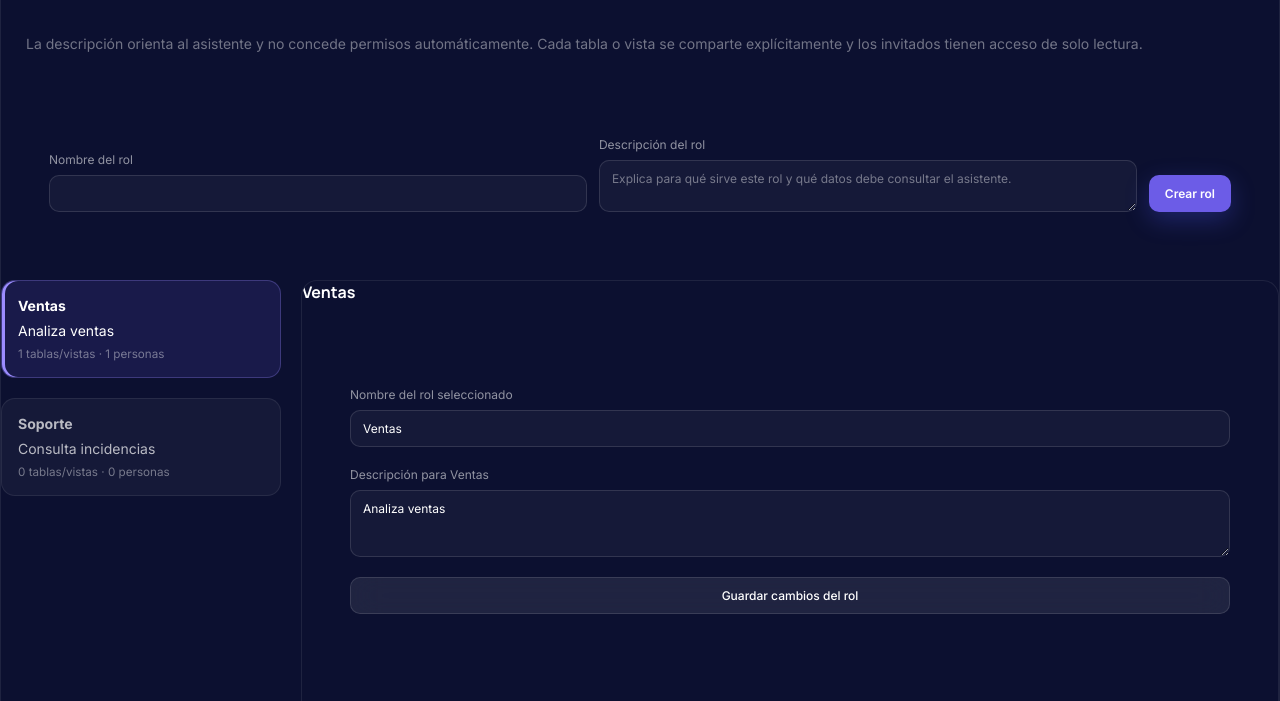
Test: edita nombre y descripción conservando permisos y personas del rol
Replace the text in the field labelled "Nombre del rol seleccionado" with " Ventas regionales " at (790, 428), box [350,410,1230,447]
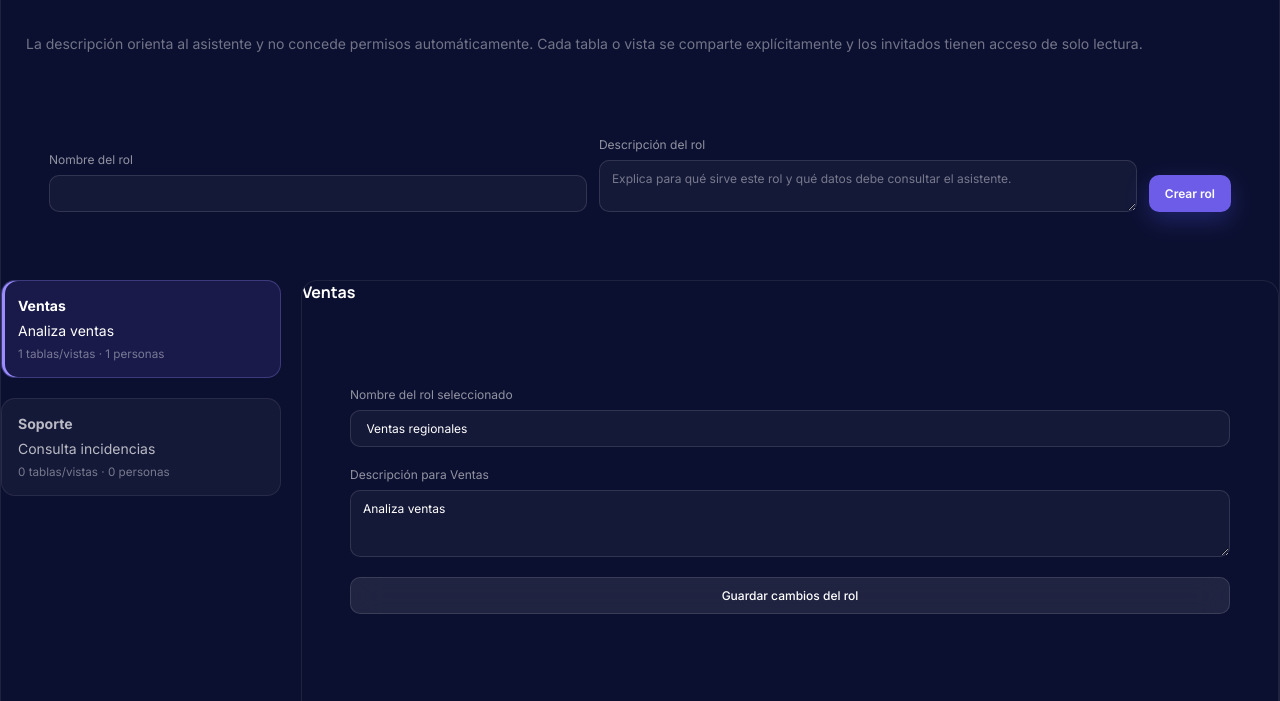
Replace the text in the text box labelled "Descripción para Ventas" with " Consulta ventas regionales " at (790, 523), box [350,490,1230,557]
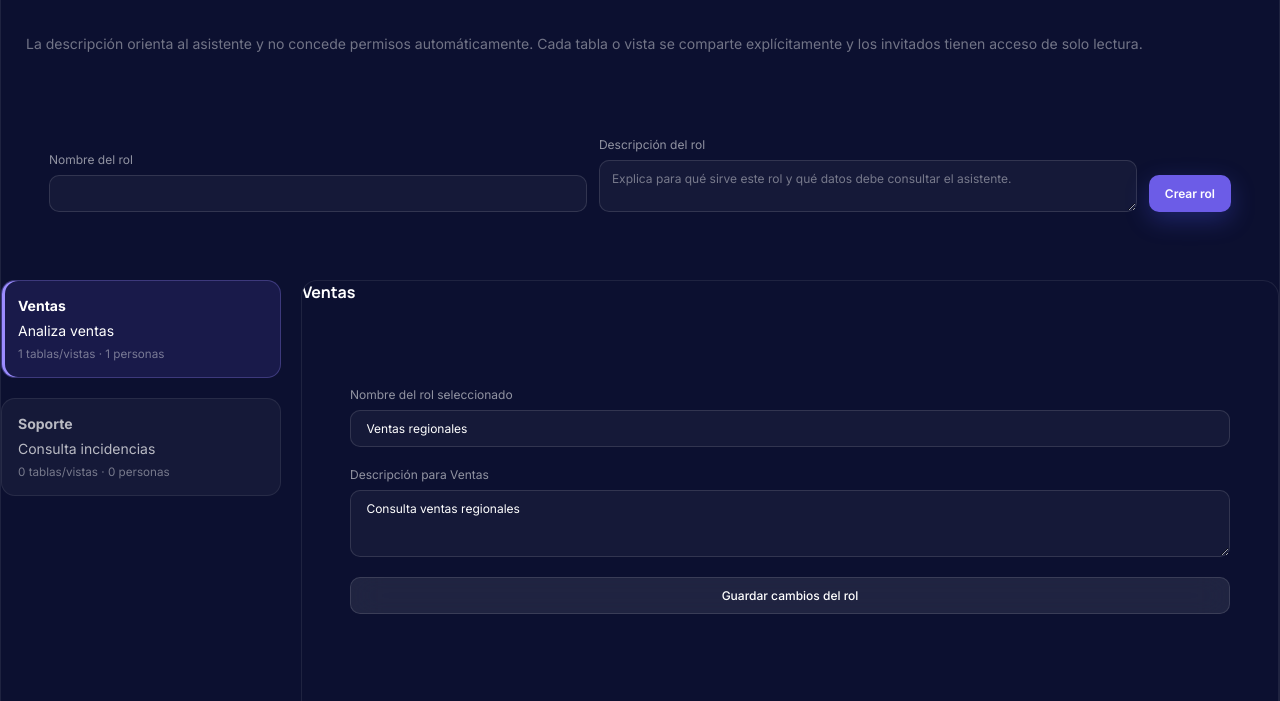
Click the button "Guardar cambios del rol" at (790, 595), box [350,577,1230,614]
(page scrolled)
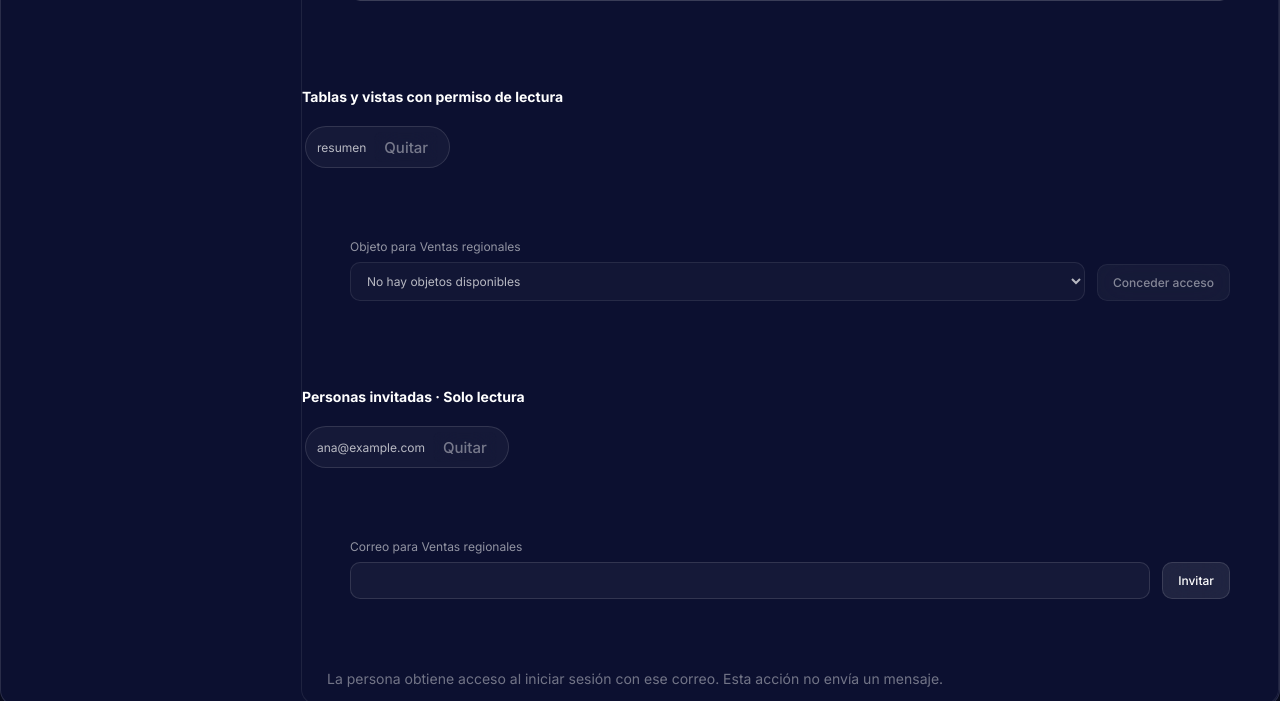
expect the button with aria-label "Revocar acceso a resumen del rol Ventas regionales" is shown: met, box [374,132,438,162]
expect the button with aria-label "Quitar a ana@example.com del rol Ventas regionales" is shown: met, box [433,432,497,462]
